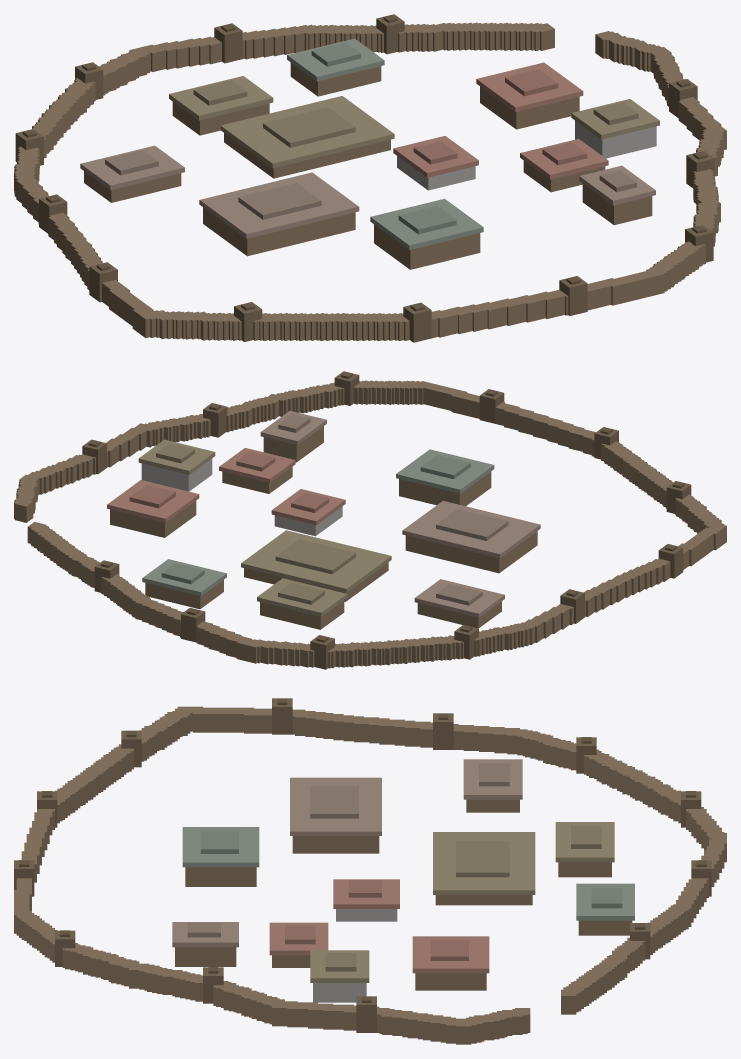
Rendered from ciudad_guarida_bandidos_1908_624_01.glb.
3 views of the same model, one above another, from view 1: azimuth 30°, elevation 25°; view 2: azimuth 150°, elevation 25°; view 3: azimuth 270°, elevation 25° (orthographic). The views are drawn at different scales.
Visible parts, largest first — view 1: ciudad_guarida_bandidos_1908_624; view 2: ciudad_guarida_bandidos_1908_624; view 3: ciudad_guarida_bandidos_1908_624.
Boxes of the visible parts, <box> form: ciudad_guarida_bandidos_1908_624: <box>14,14,726,342</box>; ciudad_guarida_bandidos_1908_624: <box>14,371,726,669</box>; ciudad_guarida_bandidos_1908_624: <box>14,698,726,1044</box>.
Bounding box in the file's own units: 74 × 3.25 × 69.75.
